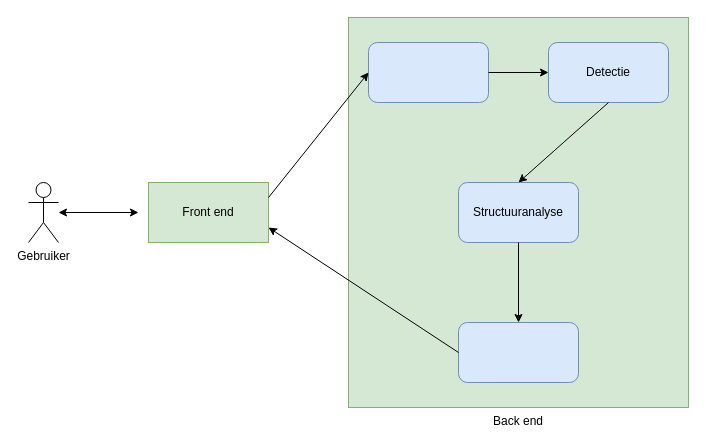
Some shapes in this 706 by 446 pixel diagram are drawn without their labels. Each missing label, with the centre of its shape:
"Postprocessing" goes at point 518,352.
"Preprocessing" goes at point 428,72.
